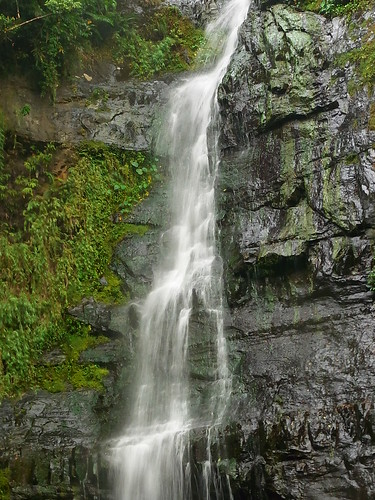wufengciWaterfall: (60, 7, 325, 498)
